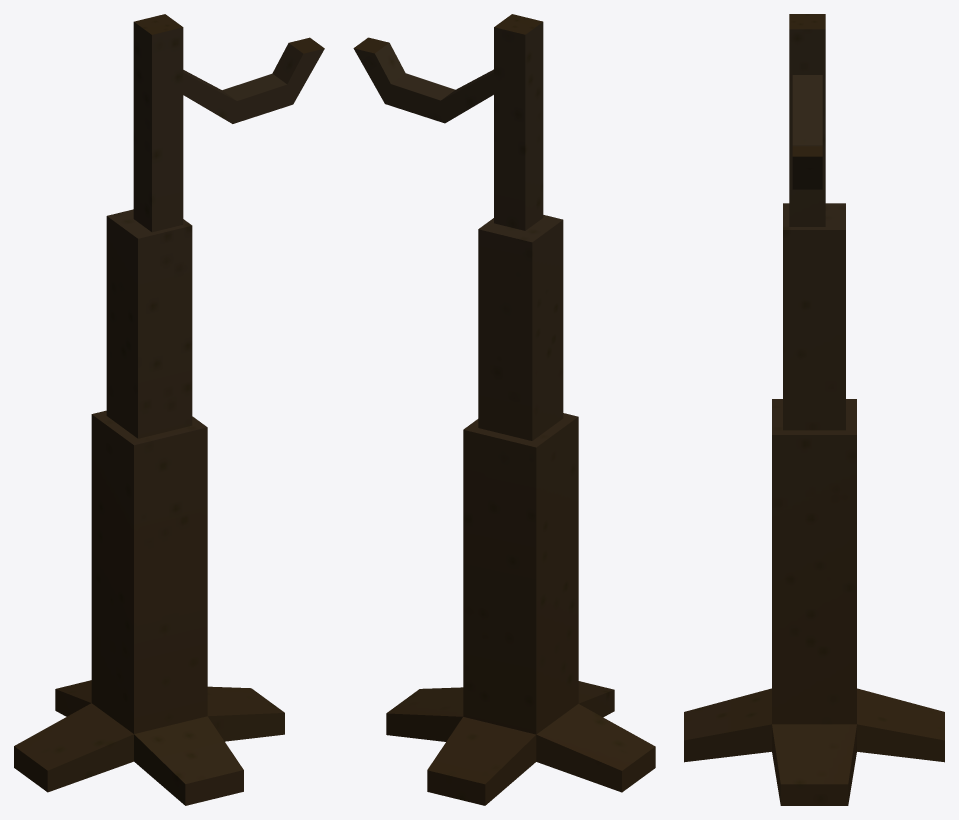
The model's file is Pohon Gundul 1.fbx.
The picture shows the model from 3 angles, left to right: view 1: azimuth 30°, elevation 25°; view 2: azimuth 150°, elevation 25°; view 3: azimuth 270°, elevation 25°; orthographic projection.
Visible parts, largest first — view 1: Pohon Tebang 1; view 2: Pohon Tebang 1; view 3: Pohon Tebang 1.
Boxes of the visible parts, x1,y1,x2,y2 form: Pohon Tebang 1: (14, 14, 324, 805); Pohon Tebang 1: (353, 14, 655, 805); Pohon Tebang 1: (684, 14, 944, 805).
Size of the model in its own units: 124 by 306 by 99.14.
1 material, 1 textured.
